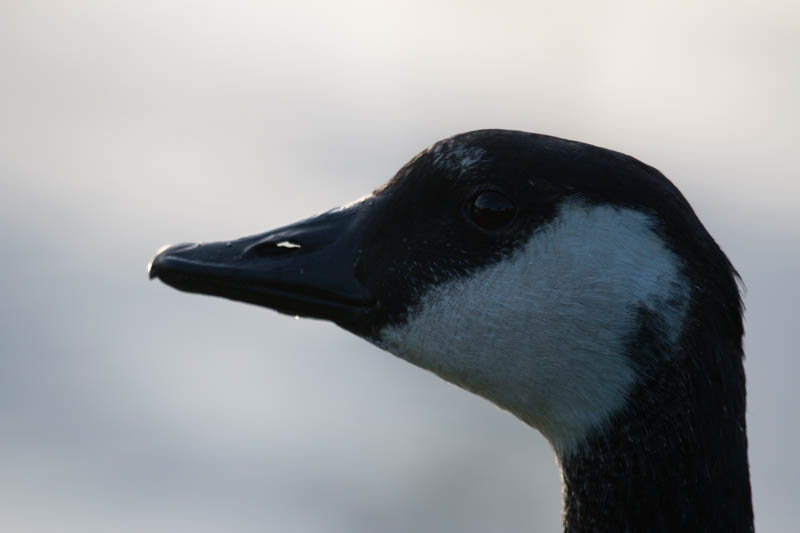goose-head: (146, 129, 746, 449)
